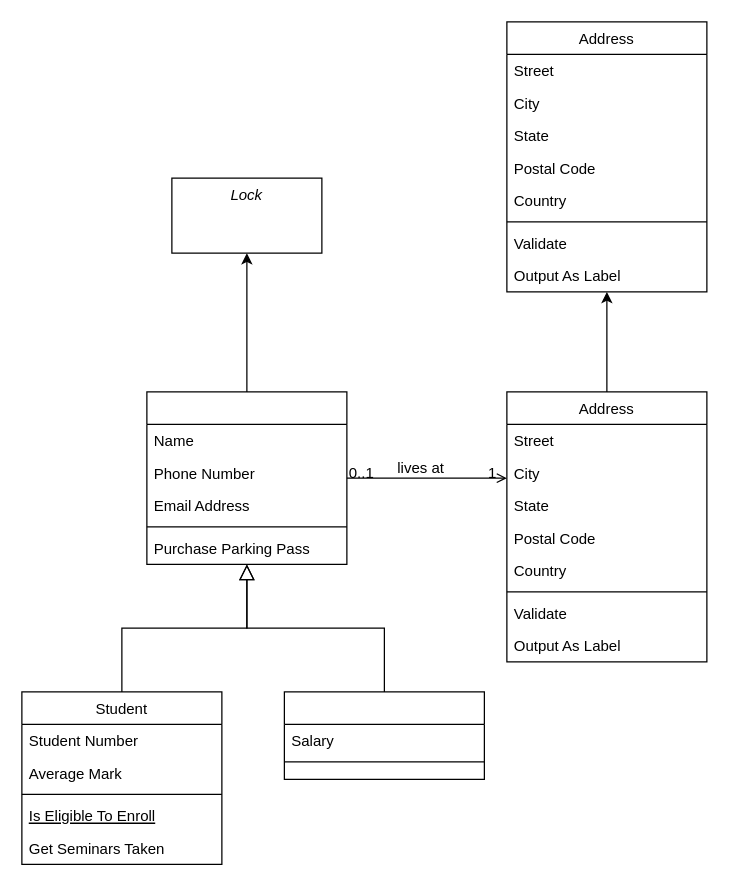
Some shapes in this 729 by 890 pixel diagram are drawn without their labels. Here are the shapes that lost their labels. From the top down, the box of each, then its label:
(146, 391, 347, 564): Person
(283, 691, 484, 779): Professor
